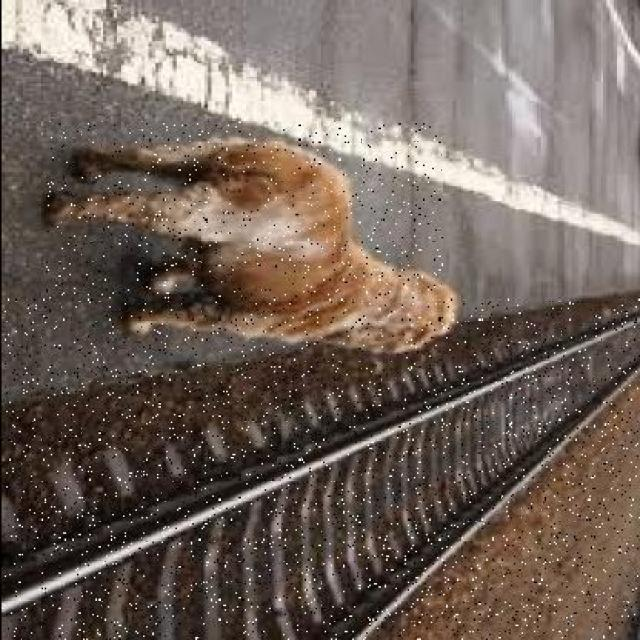rail: (4, 299, 640, 640)
